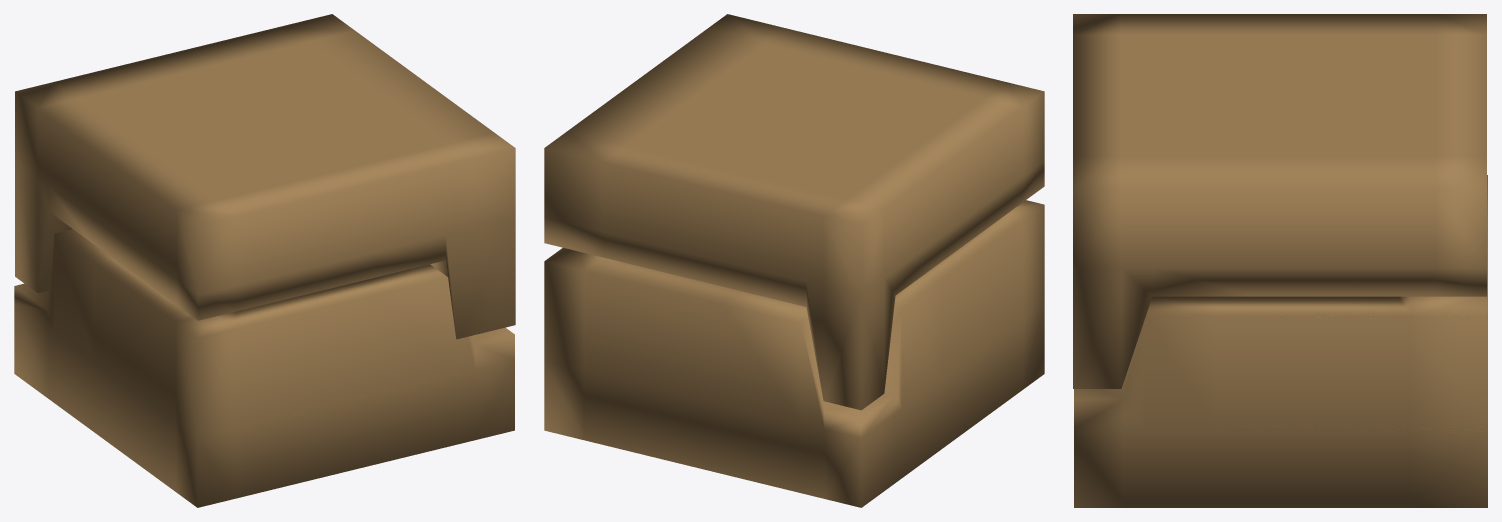
The model's file is Mold_Pleuel.fbx.
3 views of the same model, side by side, from view 1: azimuth 30°, elevation 25°; view 2: azimuth 150°, elevation 25°; view 3: azimuth 270°, elevation 25° (orthographic). The views are drawn at different scales.
Visible parts, largest first — view 1: Top, Mold; view 2: Top, Mold; view 3: Top, Mold.
Boxes of the visible parts, x1,y1,x2,y2 form: Top: (15, 14, 515, 339); Mold: (14, 229, 514, 507); Top: (544, 14, 1044, 410); Mold: (544, 200, 1044, 507); Top: (1073, 14, 1486, 388); Mold: (1074, 175, 1487, 507).
Bounding box in the file's own units: 211 × 179 × 211.
2 materials, 2 textured.
